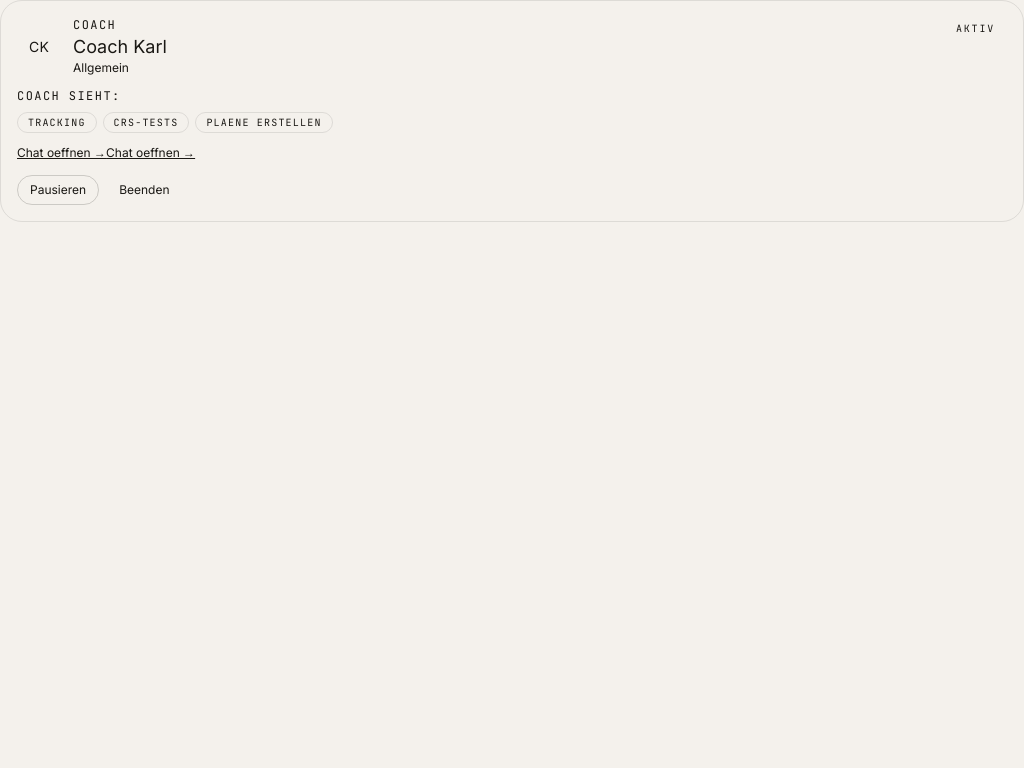
EngagementsList › Reauth bei falschem Passwort ruft end nicht auf und zeigt Fehler
This screenshot has width=1024, height=768.
Click the button "Beenden" at point(144, 190), box [107,176,182,204]
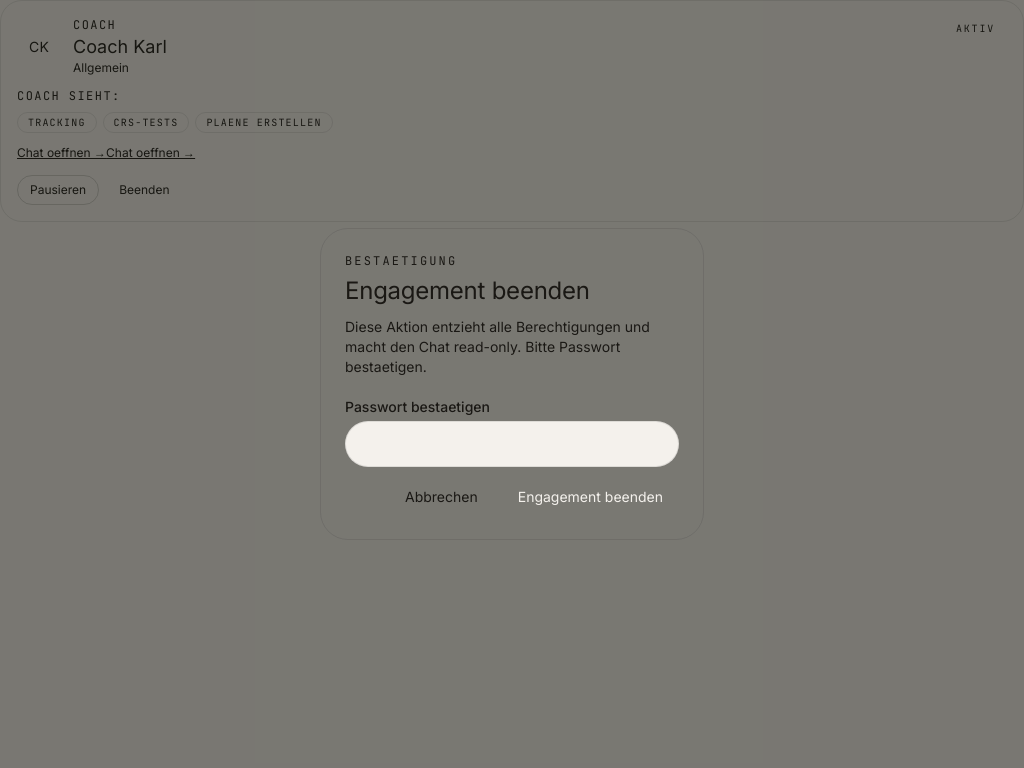
Type "wrong" into the password field labelled "Passwort bestaetigen" at point(512, 444), box [345,421,679,467]
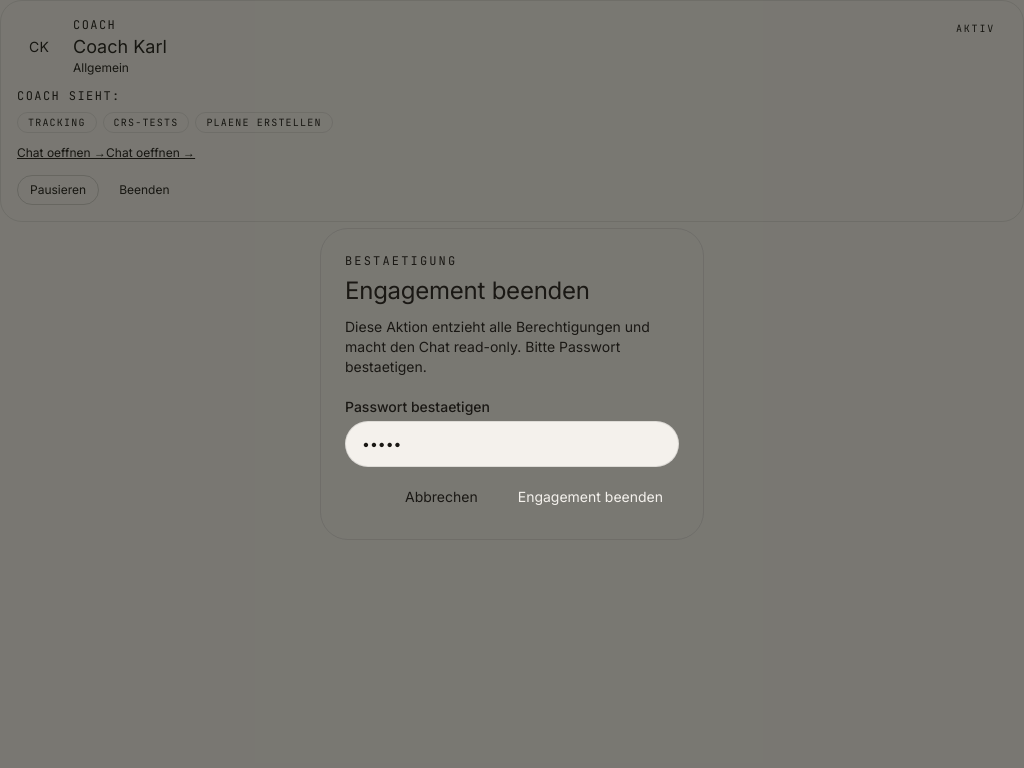
Click the button "Engagement beenden" at point(590, 497), box [502,479,679,515]
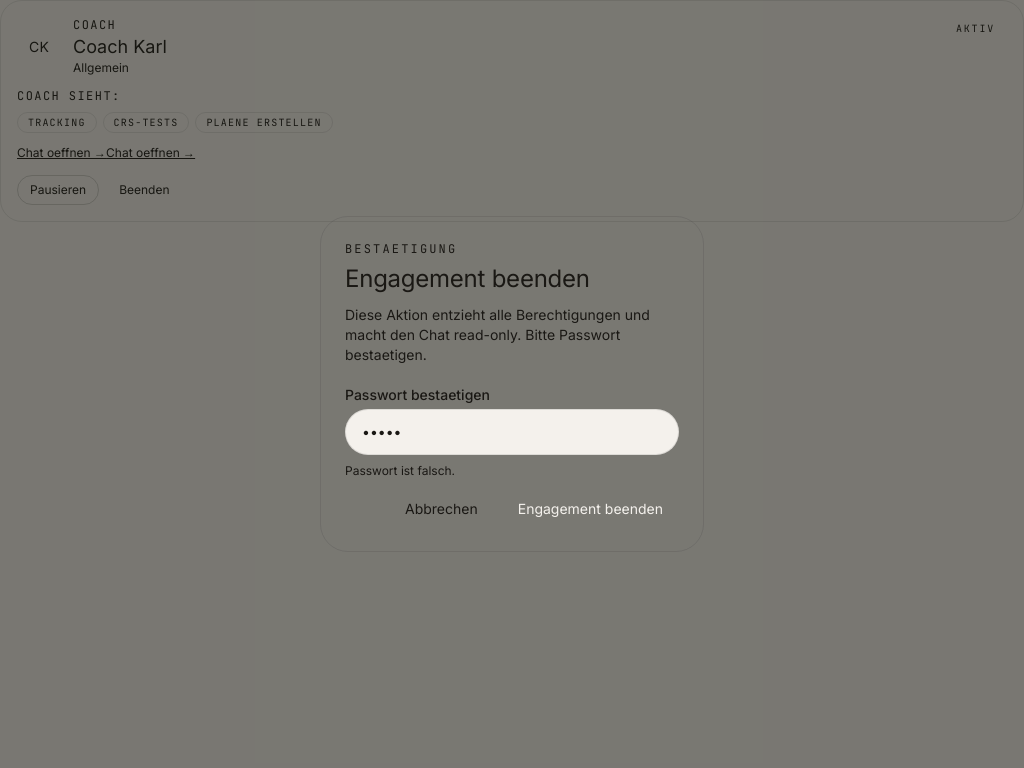
expect the text "Passwort ist falsch." is shown: met, box [345,463,455,478]
